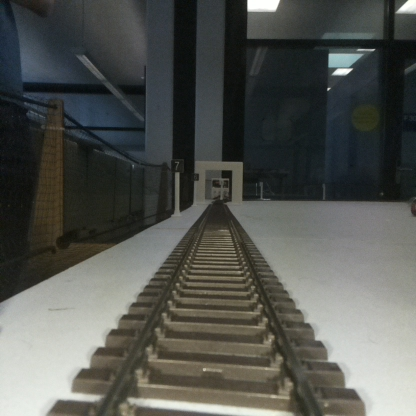black-info-7: (171, 159, 183, 215)
